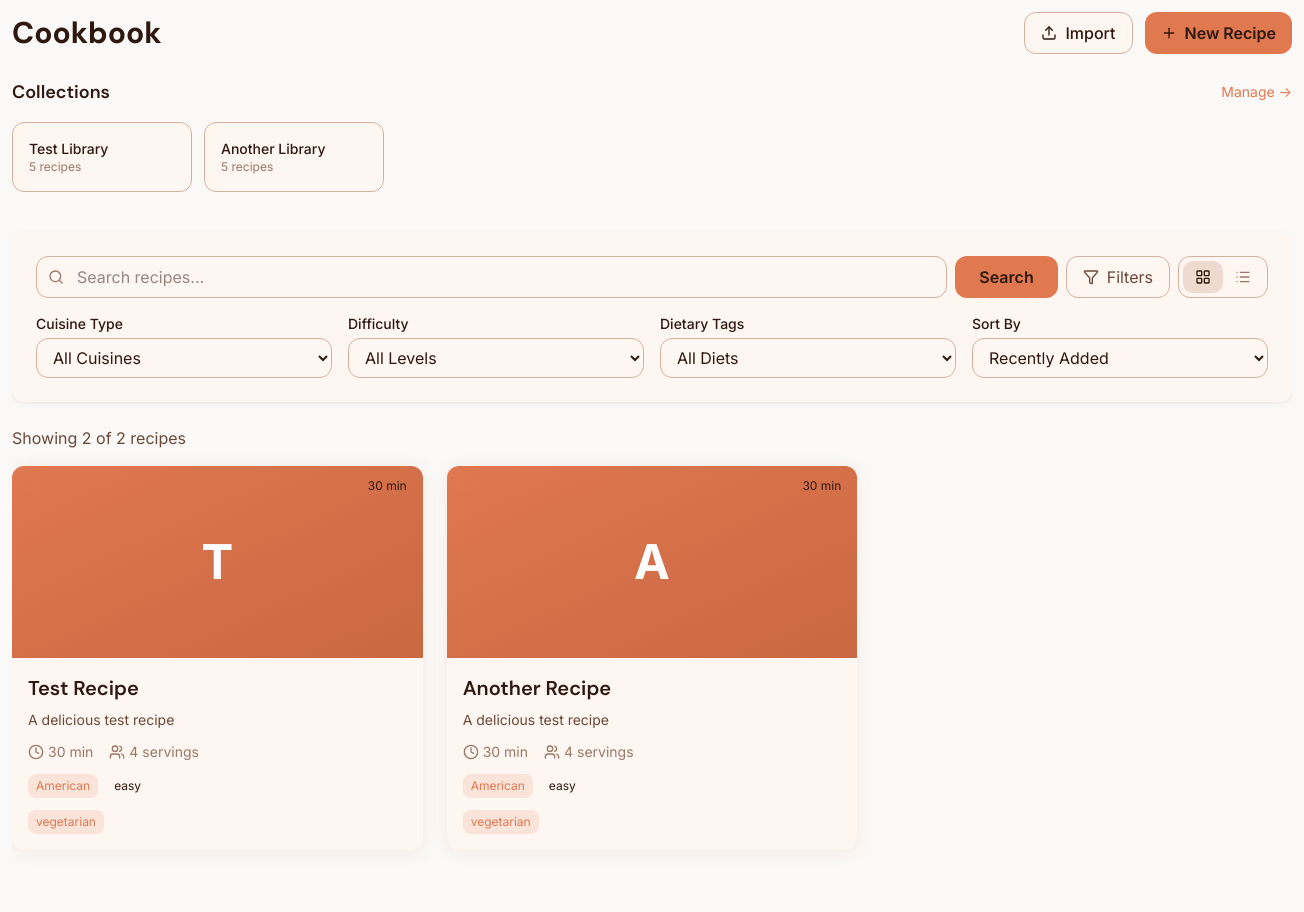
Test: RecipesPage › Filter Functionality › should show clear filters button when filters are applied
Expected: the text "clear all filters" is not shown
Note: Apply a filter
Step 1. Select "Italian" in the dropdown below "Cuisine Type" → [184, 358], box [36,338,332,378]
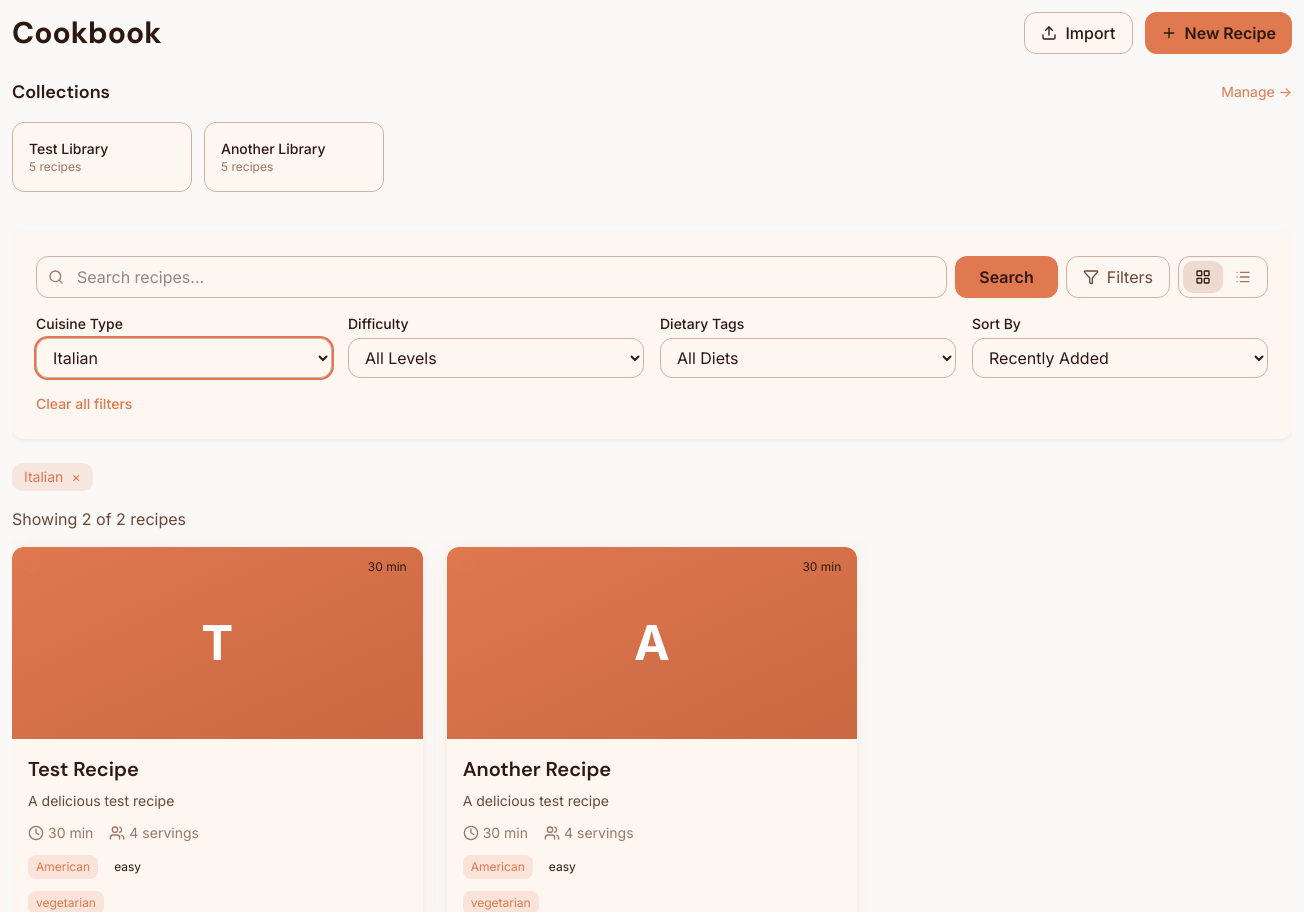
Expected: the button "Clear all filters" is shown, [36,394,132,414]
